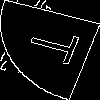T: (25, 25, 92, 69)
